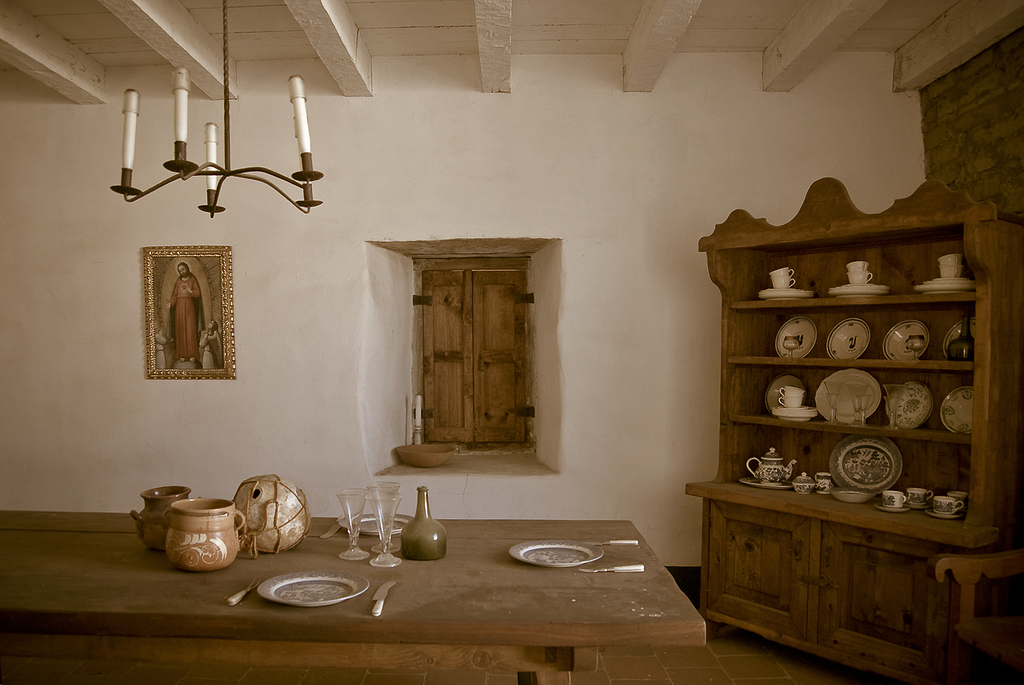Cabinetry: (680, 479, 1015, 684)
